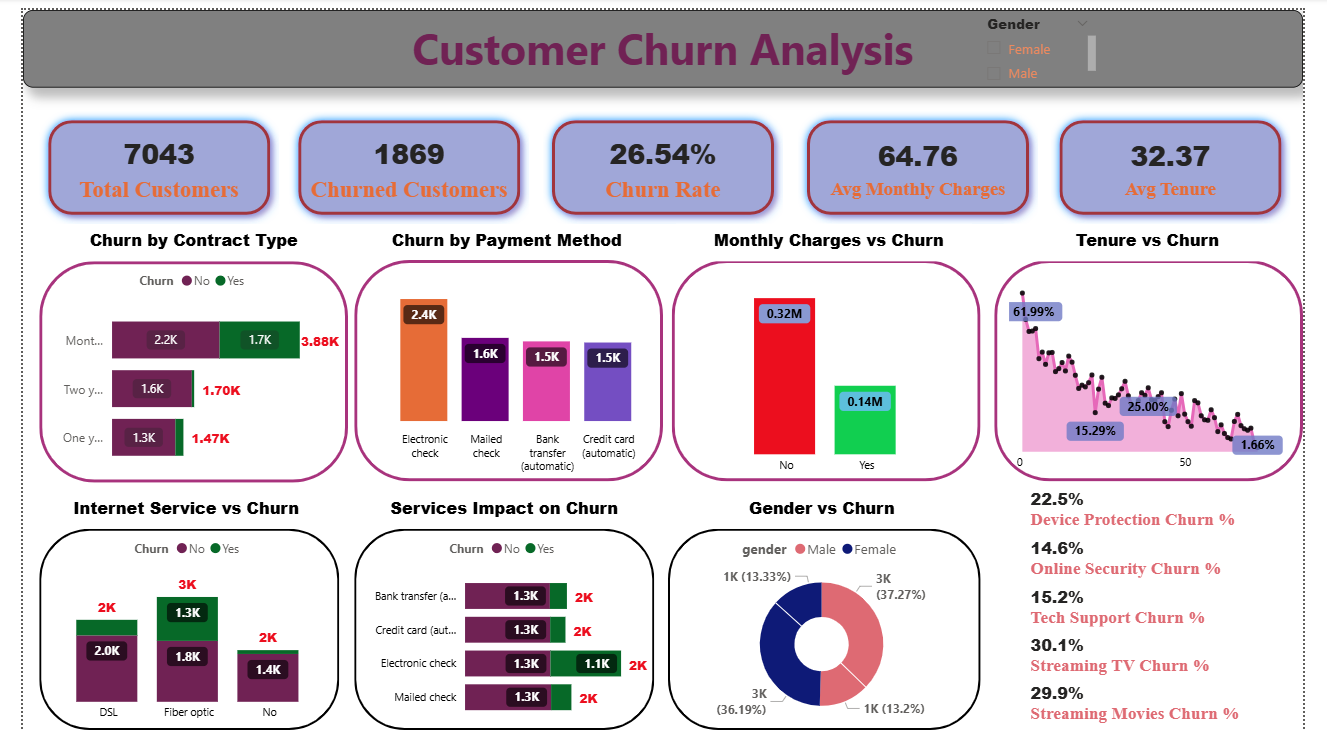

Layout of this report page (visuals, bound fields, positions):
{"tool":"powerbi","page":{"name":"Page 1","canvas":[1280,720],"ordinal":0},"visuals":[{"type":"textbox","box":[0,0,1280,77.5],"z":0},{"type":"shape","box":[16.2,101.2,240,112.5],"z":1},{"type":"shape","box":[266.2,101.2,240,112.5],"z":2},{"type":"shape","box":[520,101.2,240,112.5],"z":3},{"type":"shape","box":[775,101.2,240,112.5],"z":4},{"type":"shape","box":[1027.5,101.2,240,112.5],"z":5},{"type":"shape","box":[331.2,250,308.8,221.2],"z":6},{"type":"shape","box":[16.2,251.2,308.8,221.2],"z":7},{"type":"shape","box":[648.8,250,308.8,221.2],"z":8},{"type":"shape","box":[971.2,250,308.8,221.2],"z":9},{"type":"shape","box":[16.2,518.8,300,201.2],"z":11},{"type":"card","fields":{"Values":["WA_Fn-UseC_-Telco-Customer-Churn.Total Customers"]},"box":[32.5,116.2,207.5,82.5],"z":13},{"type":"card","fields":{"Values":["WA_Fn-UseC_-Telco-Customer-Churn.Avg Monthly Charges"]},"box":[791.2,116.2,207.5,82.5],"z":14},{"type":"card","fields":{"Values":["WA_Fn-UseC_-Telco-Customer-Churn.Avg Tenure"]},"box":[1043.8,116.2,207.5,82.5],"z":15},{"type":"card","fields":{"Values":["WA_Fn-UseC_-Telco-Customer-Churn.Churned Customers"]},"box":[282.5,116.2,207.5,82.5],"z":16},{"type":"card","fields":{"Values":["WA_Fn-UseC_-Telco-Customer-Churn.Churn Rate"]},"box":[536.2,116.2,207.5,82.5],"z":17},{"type":"barChart","fields":{"Category":["WA_Fn-UseC_-Telco-Customer-Churn.Contract"],"Y":["CountNonNull(WA_Fn-UseC_-Telco-Customer-Churn.customerID)"],"Series":["WA_Fn-UseC_-Telco-Customer-Churn.Churn"]},"box":[21.2,251.2,300,221.2],"z":18},{"type":"textbox","box":[16.2,213.8,308.8,37.5],"z":19},{"type":"clusteredColumnChart","fields":{"Category":["WA_Fn-UseC_-Telco-Customer-Churn.PaymentMethod"],"Y":["CountNonNull(WA_Fn-UseC_-Telco-Customer-Churn.Churn)"]},"box":[340,250,300,221.2],"z":20},{"type":"columnChart","fields":{"Category":["WA_Fn-UseC_-Telco-Customer-Churn.Churn"],"Y":["Sum(WA_Fn-UseC_-Telco-Customer-Churn.MonthlyCharges)"]},"box":[653.8,251.2,300,221.2],"z":21},{"type":"lineChart","fields":{"Y":["WA_Fn-UseC_-Telco-Customer-Churn.Churn Rate"],"Category":["WA_Fn-UseC_-Telco-Customer-Churn.tenure"]},"box":[981.2,248.8,295,221.2],"z":22},{"type":"columnChart","fields":{"Category":["WA_Fn-UseC_-Telco-Customer-Churn.InternetService"],"Series":["WA_Fn-UseC_-Telco-Customer-Churn.Churn"],"Y":["WA_Fn-UseC_-Telco-Customer-Churn.Total Customers"]},"box":[16.2,518.8,300,201.2],"z":23},{"type":"barChart","fields":{"Series":["WA_Fn-UseC_-Telco-Customer-Churn.Churn"],"Y":["WA_Fn-UseC_-Telco-Customer-Churn.Total Customers"],"Category":["WA_Fn-UseC_-Telco-Customer-Churn.PaymentMethod"]},"box":[331.2,518.8,300,201.2],"z":24},{"type":"donutChart","fields":{"Y":["WA_Fn-UseC_-Telco-Customer-Churn.Total Customers"],"Category":["WA_Fn-UseC_-Telco-Customer-Churn.gender"],"Series":["WA_Fn-UseC_-Telco-Customer-Churn.Churn"]},"box":[648.8,518.8,300,201.2],"z":25},{"type":"shape","box":[331.2,518.8,300,201.2],"z":26},{"type":"shape","box":[645,518.8,312.5,201.2],"z":27},{"type":"multiRowCard","fields":{"Values":["WA_Fn-UseC_-Telco-Customer-Churn.Device Protection Churn %","WA_Fn-UseC_-Telco-Customer-Churn.Online Security Churn %","WA_Fn-UseC_-Telco-Customer-Churn.Tech Support Churn %","WA_Fn-UseC_-Telco-Customer-Churn.Streaming TV Churn %","WA_Fn-UseC_-Telco-Customer-Churn.Streaming Movies Churn %"]},"box":[1002.5,472.5,246.2,247.5],"z":28},{"type":"textbox","box":[336.2,213.8,295,37.5],"z":29},{"type":"textbox","box":[653.8,213.8,295,37.5],"z":30},{"type":"textbox","box":[981.2,213.8,286.2,37.5],"z":31},{"type":"textbox","box":[32.5,481.2,261.2,37.5],"z":32},{"type":"textbox","box":[331.2,481.2,300,37.5],"z":33},{"type":"textbox","box":[648.8,481.2,300,37.5],"z":34},{"type":"slicer","fields":{"Values":["WA_Fn-UseC_-Telco-Customer-Churn.gender"]},"box":[951.2,0,126.2,77.5],"z":35}]}

Visuals, with their boxes in screenshot pixels (x1, y1, x2, y2), scaled from the page's 1280x720 canvas onto the 1327x730 screenshot:
textbox: select_region(0, 0, 1326, 79)
shape: select_region(17, 103, 266, 217)
shape: select_region(276, 103, 525, 217)
shape: select_region(539, 103, 788, 217)
shape: select_region(803, 103, 1052, 217)
shape: select_region(1065, 103, 1314, 217)
shape: select_region(343, 253, 664, 478)
shape: select_region(17, 255, 337, 479)
shape: select_region(673, 253, 993, 478)
shape: select_region(1007, 253, 1326, 478)
shape: select_region(17, 526, 328, 729)
card - WA_Fn-UseC_-Telco-Customer-Churn.Total Customers: select_region(34, 118, 249, 201)
card - WA_Fn-UseC_-Telco-Customer-Churn.Avg Monthly Charges: select_region(820, 118, 1035, 201)
card - WA_Fn-UseC_-Telco-Customer-Churn.Avg Tenure: select_region(1082, 118, 1297, 201)
card - WA_Fn-UseC_-Telco-Customer-Churn.Churned Customers: select_region(293, 118, 508, 201)
card - WA_Fn-UseC_-Telco-Customer-Churn.Churn Rate: select_region(556, 118, 771, 201)
barChart - WA_Fn-UseC_-Telco-Customer-Churn.Contract x CountNonNull(WA_Fn-UseC_-Telco-Customer-Churn.customerID): select_region(22, 255, 333, 479)
textbox: select_region(17, 217, 337, 255)
clusteredColumnChart - WA_Fn-UseC_-Telco-Customer-Churn.PaymentMethod x CountNonNull(WA_Fn-UseC_-Telco-Customer-Churn.Churn): select_region(352, 253, 664, 478)
columnChart - WA_Fn-UseC_-Telco-Customer-Churn.Churn x Sum(WA_Fn-UseC_-Telco-Customer-Churn.MonthlyCharges): select_region(678, 255, 989, 479)
lineChart - WA_Fn-UseC_-Telco-Customer-Churn.Churn Rate x WA_Fn-UseC_-Telco-Customer-Churn.tenure: select_region(1017, 252, 1323, 477)
columnChart - WA_Fn-UseC_-Telco-Customer-Churn.InternetService x WA_Fn-UseC_-Telco-Customer-Churn.Churn: select_region(17, 526, 328, 729)
barChart - WA_Fn-UseC_-Telco-Customer-Churn.Churn x WA_Fn-UseC_-Telco-Customer-Churn.Total Customers: select_region(343, 526, 654, 729)
donutChart - WA_Fn-UseC_-Telco-Customer-Churn.Total Customers x WA_Fn-UseC_-Telco-Customer-Churn.gender: select_region(673, 526, 984, 729)
shape: select_region(343, 526, 654, 729)
shape: select_region(669, 526, 993, 729)
multiRowCard - WA_Fn-UseC_-Telco-Customer-Churn.Device Protection Churn % x WA_Fn-UseC_-Telco-Customer-Churn.Online Security Churn %: select_region(1039, 479, 1295, 729)
textbox: select_region(349, 217, 654, 255)
textbox: select_region(678, 217, 984, 255)
textbox: select_region(1017, 217, 1314, 255)
textbox: select_region(34, 488, 304, 526)
textbox: select_region(343, 488, 654, 526)
textbox: select_region(673, 488, 984, 526)
slicer - WA_Fn-UseC_-Telco-Customer-Churn.gender: select_region(986, 0, 1117, 79)
